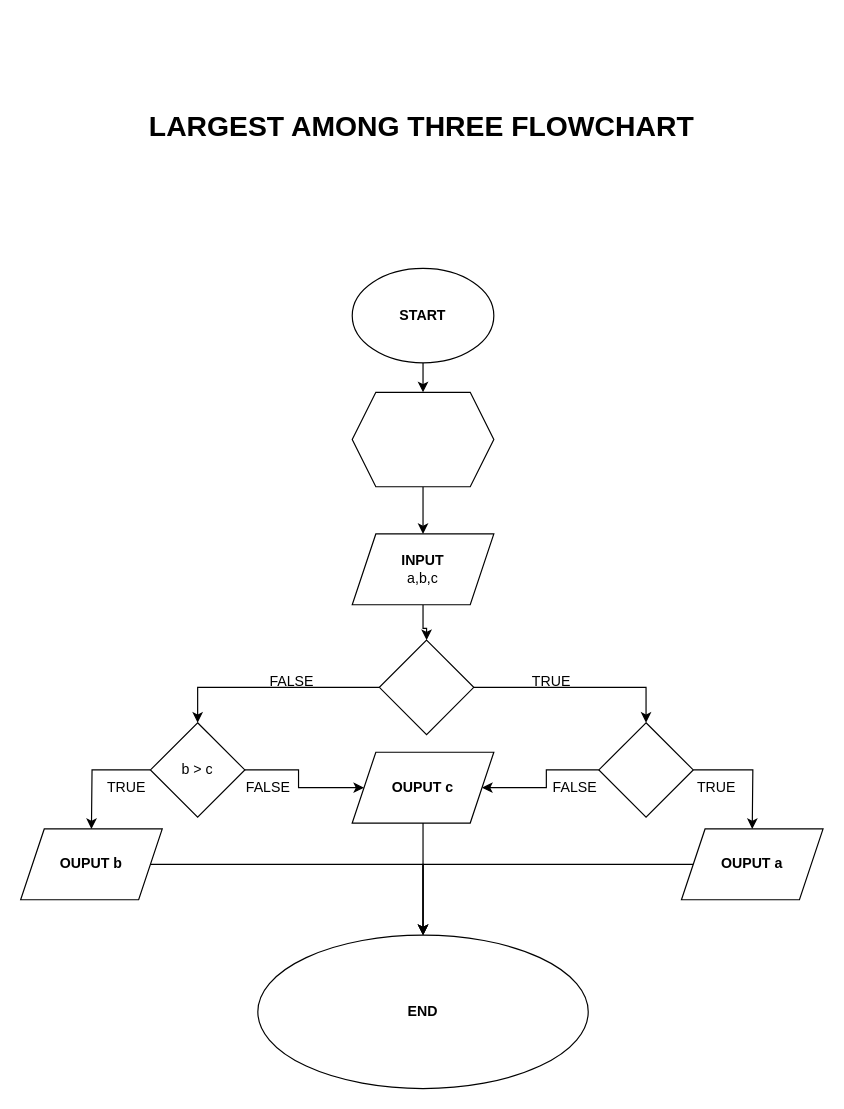
This 844x1109 diagram has some shape labels left out. Each missing label, with the centre of its shape:
"a > b" belongs at (426,687).
"a > c" belongs at (645,769).
"declare a,b,c" belongs at (422,439).
